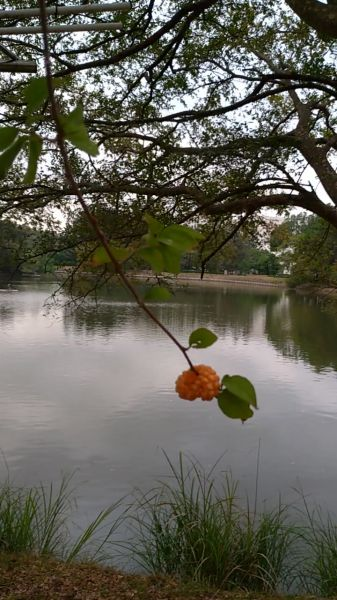eggs: (170, 364, 228, 404)
